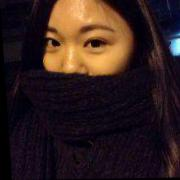WRONG: (40, 22, 128, 106)
